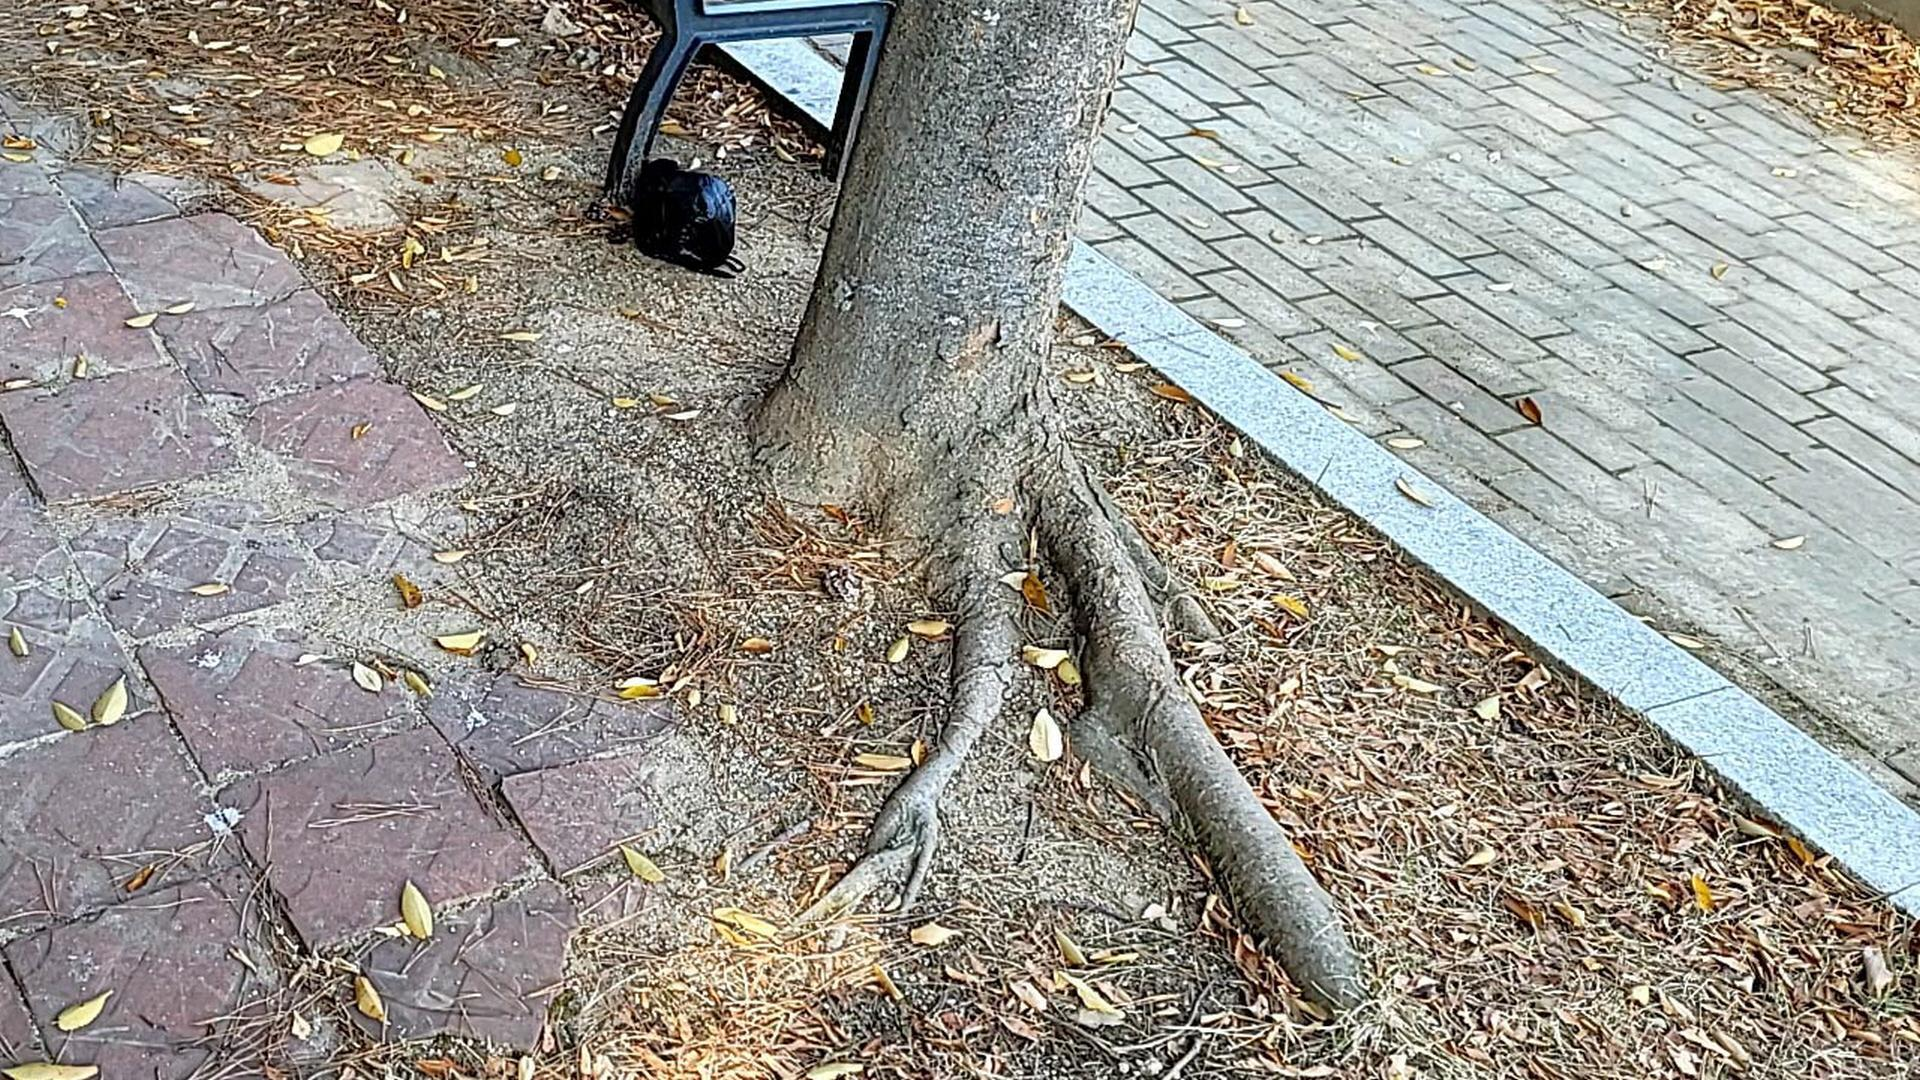black_bag: (618, 156, 753, 282)
